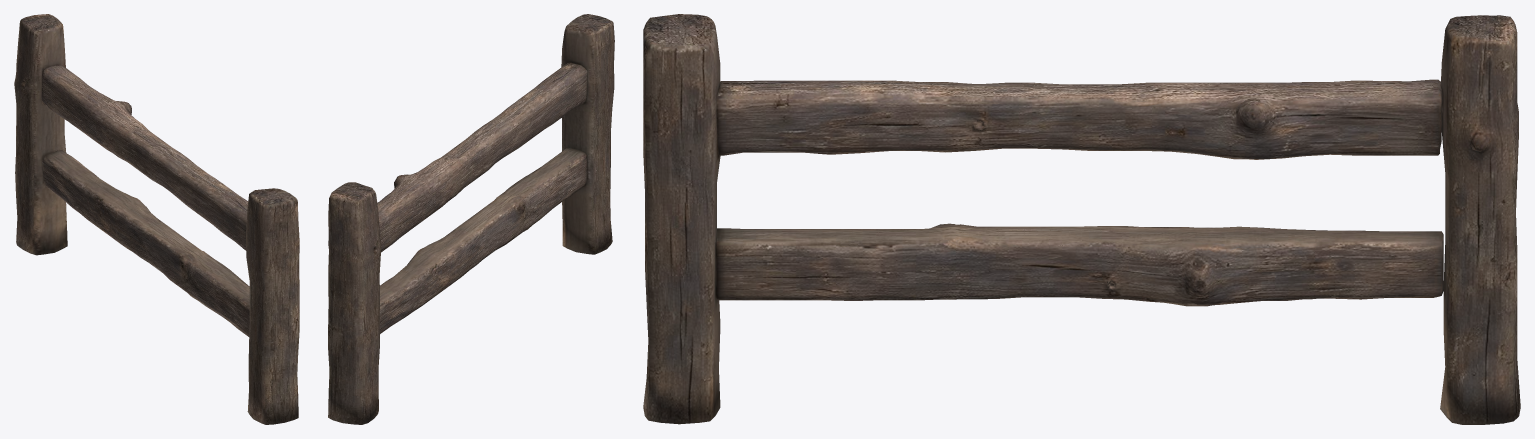
The model's file is fence.glb.
3 renders of one model, left to right at view 1: azimuth 30°, elevation 25°; view 2: azimuth 150°, elevation 25°; view 3: azimuth 270°, elevation 25°, orthographic. The views are drawn at different scales.
Parts seen in each view (by area): view 1: tripo_node_aa42a354-a669-45f4-aa1f-3daf91b44bf9; view 2: tripo_node_aa42a354-a669-45f4-aa1f-3daf91b44bf9; view 3: tripo_node_aa42a354-a669-45f4-aa1f-3daf91b44bf9.
Boxes of the visible parts, bbox=[...] form: tripo_node_aa42a354-a669-45f4-aa1f-3daf91b44bf9: bbox=[14, 14, 299, 424]; tripo_node_aa42a354-a669-45f4-aa1f-3daf91b44bf9: bbox=[328, 14, 614, 424]; tripo_node_aa42a354-a669-45f4-aa1f-3daf91b44bf9: bbox=[643, 14, 1520, 424].
Bounding box in the file's own units: 0.0996 × 0.4824 × 0.998.
1 material, 1 textured.
